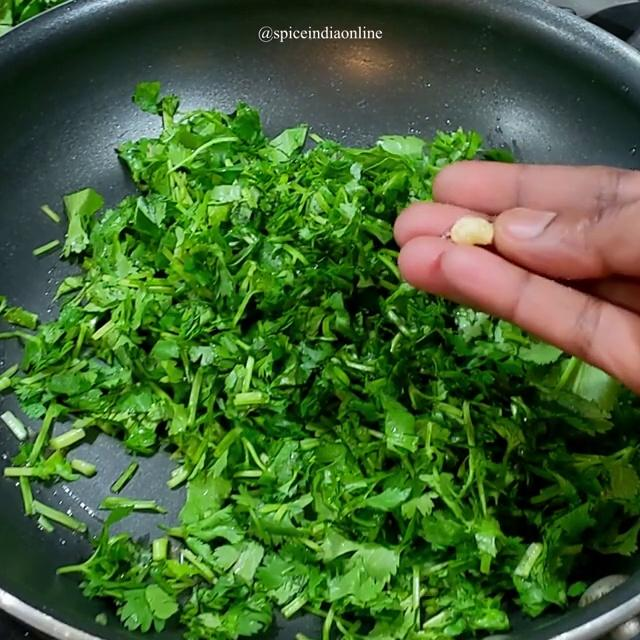cilantro: (112, 119, 409, 634)
